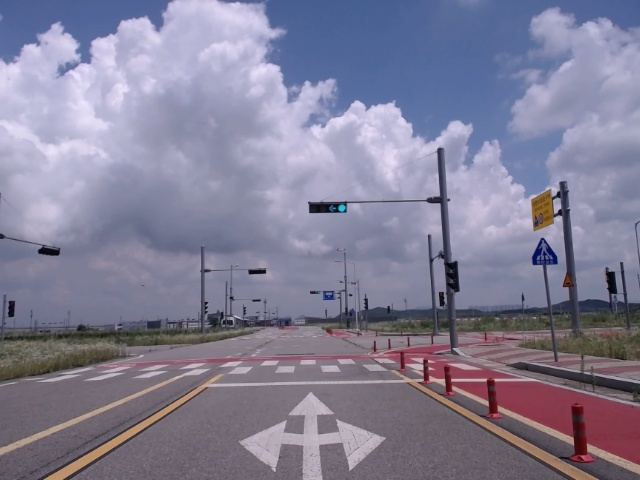all_green_4: (307, 202, 348, 212)
